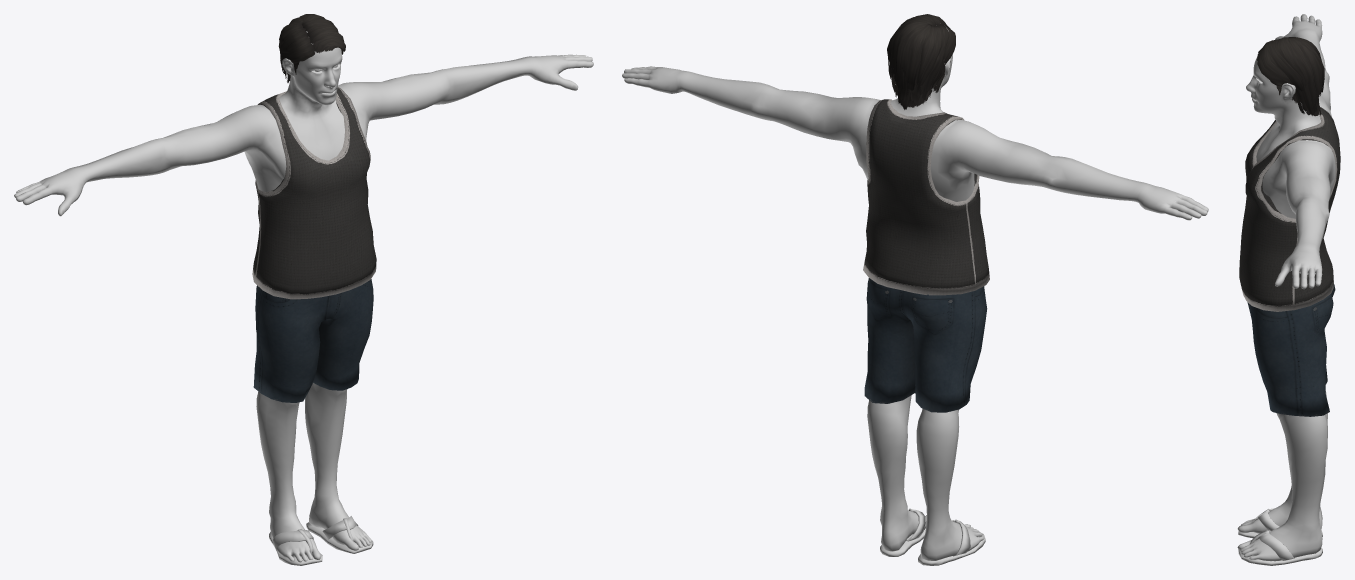
Rendered from twenteeth_clothes_hair.obj.
3 renders of one model, left to right at view 1: azimuth 30°, elevation 25°; view 2: azimuth 150°, elevation 25°; view 3: azimuth 270°, elevation 25°, orthographic. The views are drawn at different scales.
Visible parts, largest first — view 1: Body, Tops, Bottoms, Hair, Shoes; view 2: Body, Tops, Bottoms, Hair, Shoes; view 3: Body, Tops, Bottoms, Hair, Shoes.
Boxes of the visible parts, x1,y1,x2,y2 form: Body: (14, 31, 593, 562); Tops: (252, 87, 376, 299); Bottoms: (253, 279, 373, 402); Hair: (278, 14, 345, 82); Shoes: (269, 516, 373, 565); Body: (622, 27, 1208, 560); Tops: (863, 99, 989, 295); Bottoms: (864, 278, 987, 412); Hair: (887, 14, 955, 109); Shoes: (880, 508, 985, 565); Body: (1237, 14, 1335, 561); Tops: (1239, 107, 1340, 311); Bottoms: (1247, 284, 1335, 416); Hair: (1257, 37, 1324, 116); Shoes: (1238, 508, 1322, 565).
Size of the model in its own units: 21.36 by 18.62 by 3.42.
